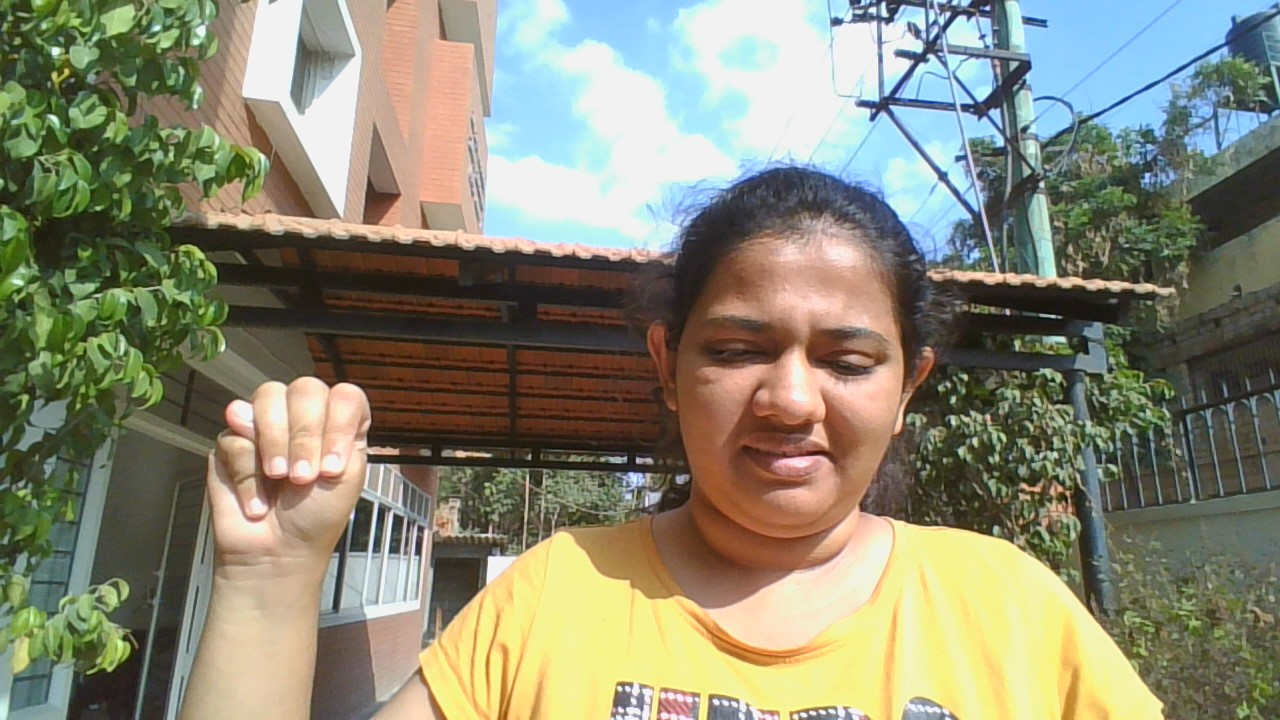m: (189, 365, 393, 578)
